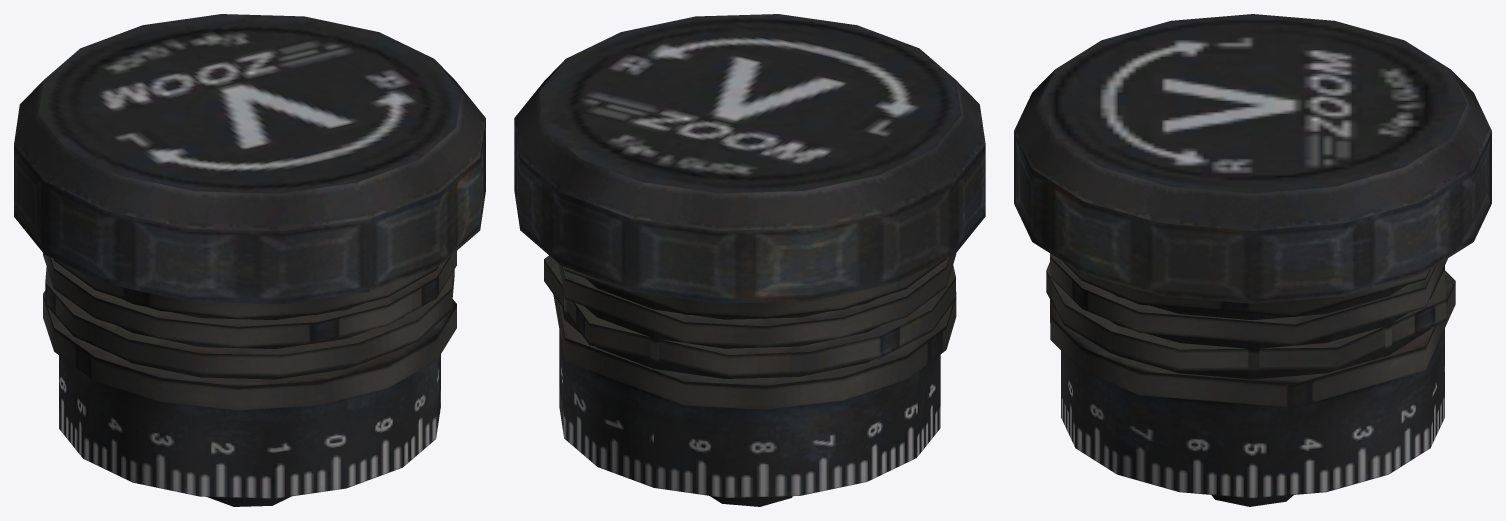
Rendered from t6_attach_optic_vzoom_svu_view_LOD0.obj.
3 views of the same model, side by side, from view 1: azimuth 30°, elevation 25°; view 2: azimuth 150°, elevation 25°; view 3: azimuth 270°, elevation 25° (orthographic).
Visible parts, largest first — view 1: mtl_t6_attach_optic_vzoom_svu; view 2: mtl_t6_attach_optic_vzoom_svu; view 3: mtl_t6_attach_optic_vzoom_svu.
Boxes of the visible parts, box(x1,y1,x2,y2) form: mtl_t6_attach_optic_vzoom_svu: box(14, 14, 485, 506); mtl_t6_attach_optic_vzoom_svu: box(514, 14, 985, 506); mtl_t6_attach_optic_vzoom_svu: box(1014, 14, 1491, 506).
Bounding box in the file's own units: 2.74 × 2.44 × 2.77.
